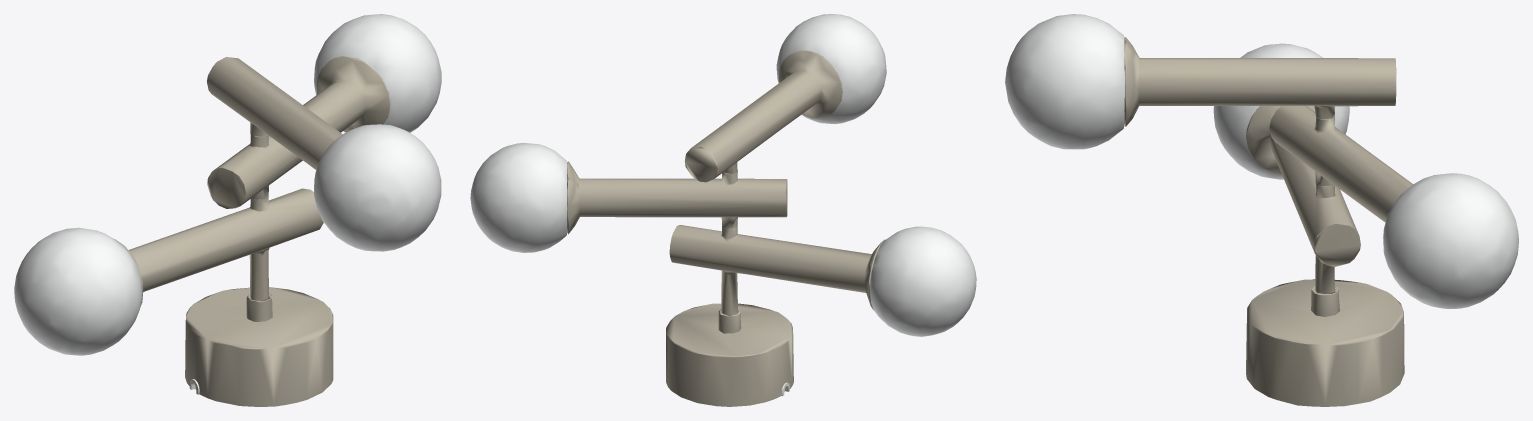
File: kranbalk_lampa_sufitowa_90549405.glb
The picture shows the model from 3 angles, left to right: view 1: azimuth 30°, elevation 25°; view 2: azimuth 150°, elevation 25°; view 3: azimuth 270°, elevation 25°; orthographic projection. The views are drawn at different scales.
Visible parts, largest first — view 1: kranbalk_lampa_sufitowa_90549405; view 2: kranbalk_lampa_sufitowa_90549405; view 3: kranbalk_lampa_sufitowa_90549405.
Part boxes in pixels (x1=…): kranbalk_lampa_sufitowa_90549405: x1=14, y1=14, x2=441, y2=406; kranbalk_lampa_sufitowa_90549405: x1=470, y1=14, x2=976, y2=406; kranbalk_lampa_sufitowa_90549405: x1=1005, y1=14, x2=1518, y2=406.
Size of the model in its own units: 0.5696 by 0.3691 by 0.4861.
Materials: 12 (12 with a texture image).
